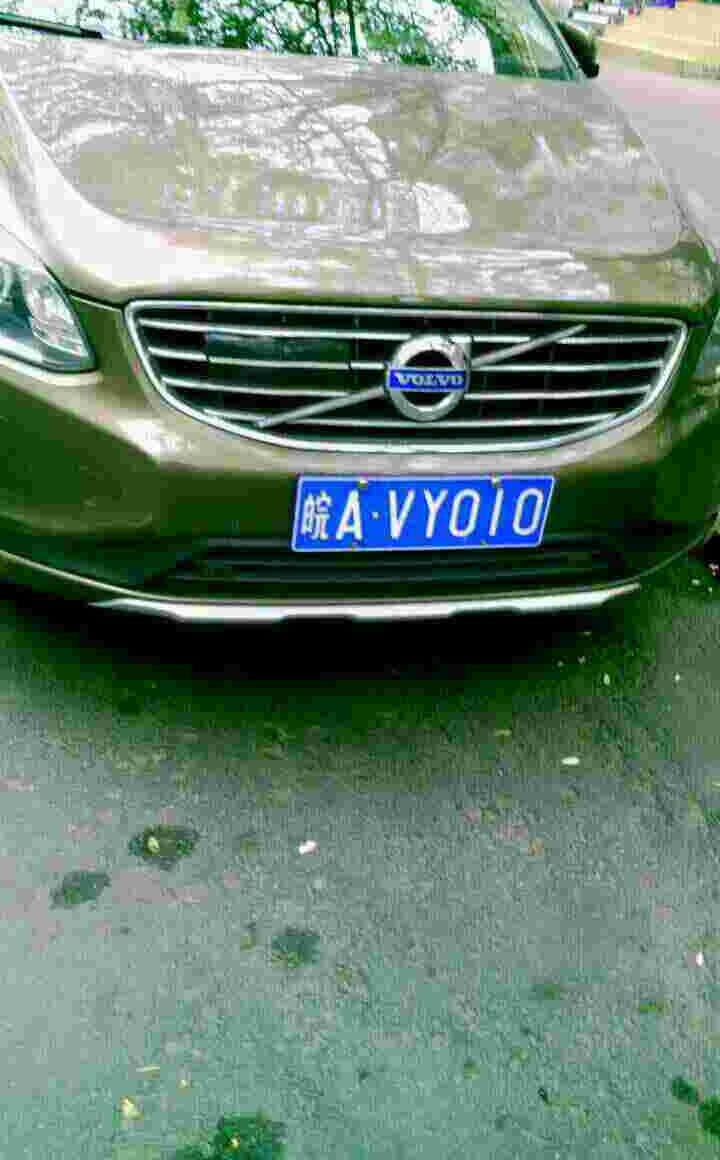plate: (295, 472, 561, 555)
